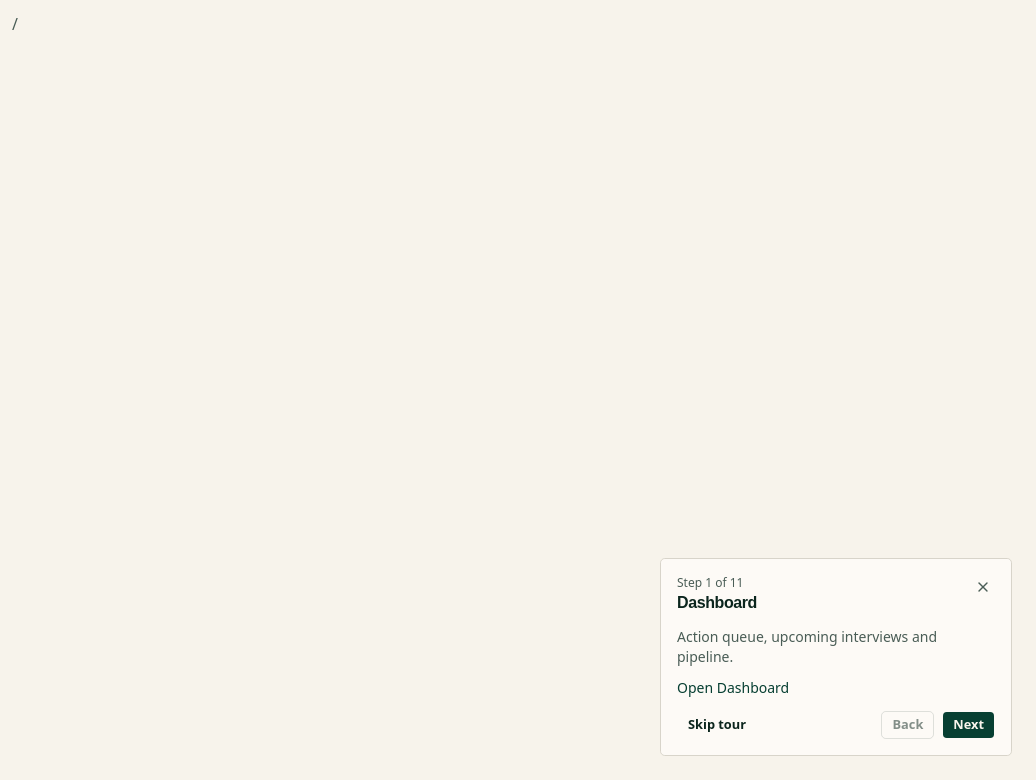
ProductTour › starts on first run and walks through the areas
Click the button "Next": (969, 725) [942,711,995,739]
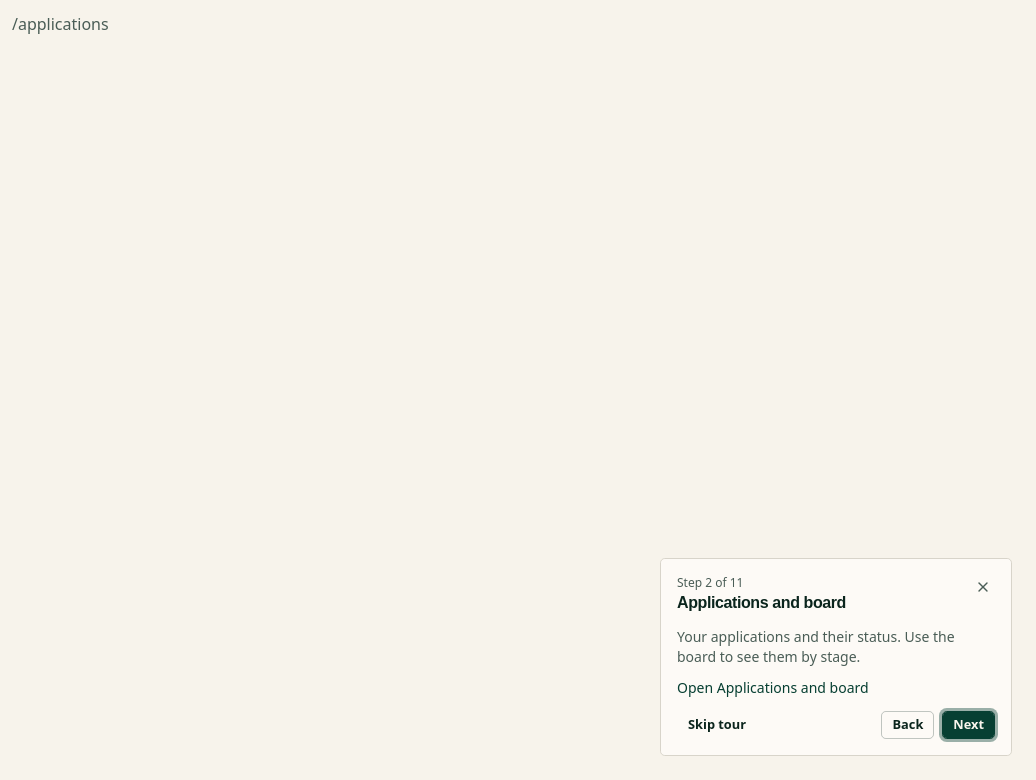
Expected: the element named "Product tour" shows "Applications", [677,594,846,611]
Expected: the text with test id "where" reads "/applications", [12,13,109,35]
